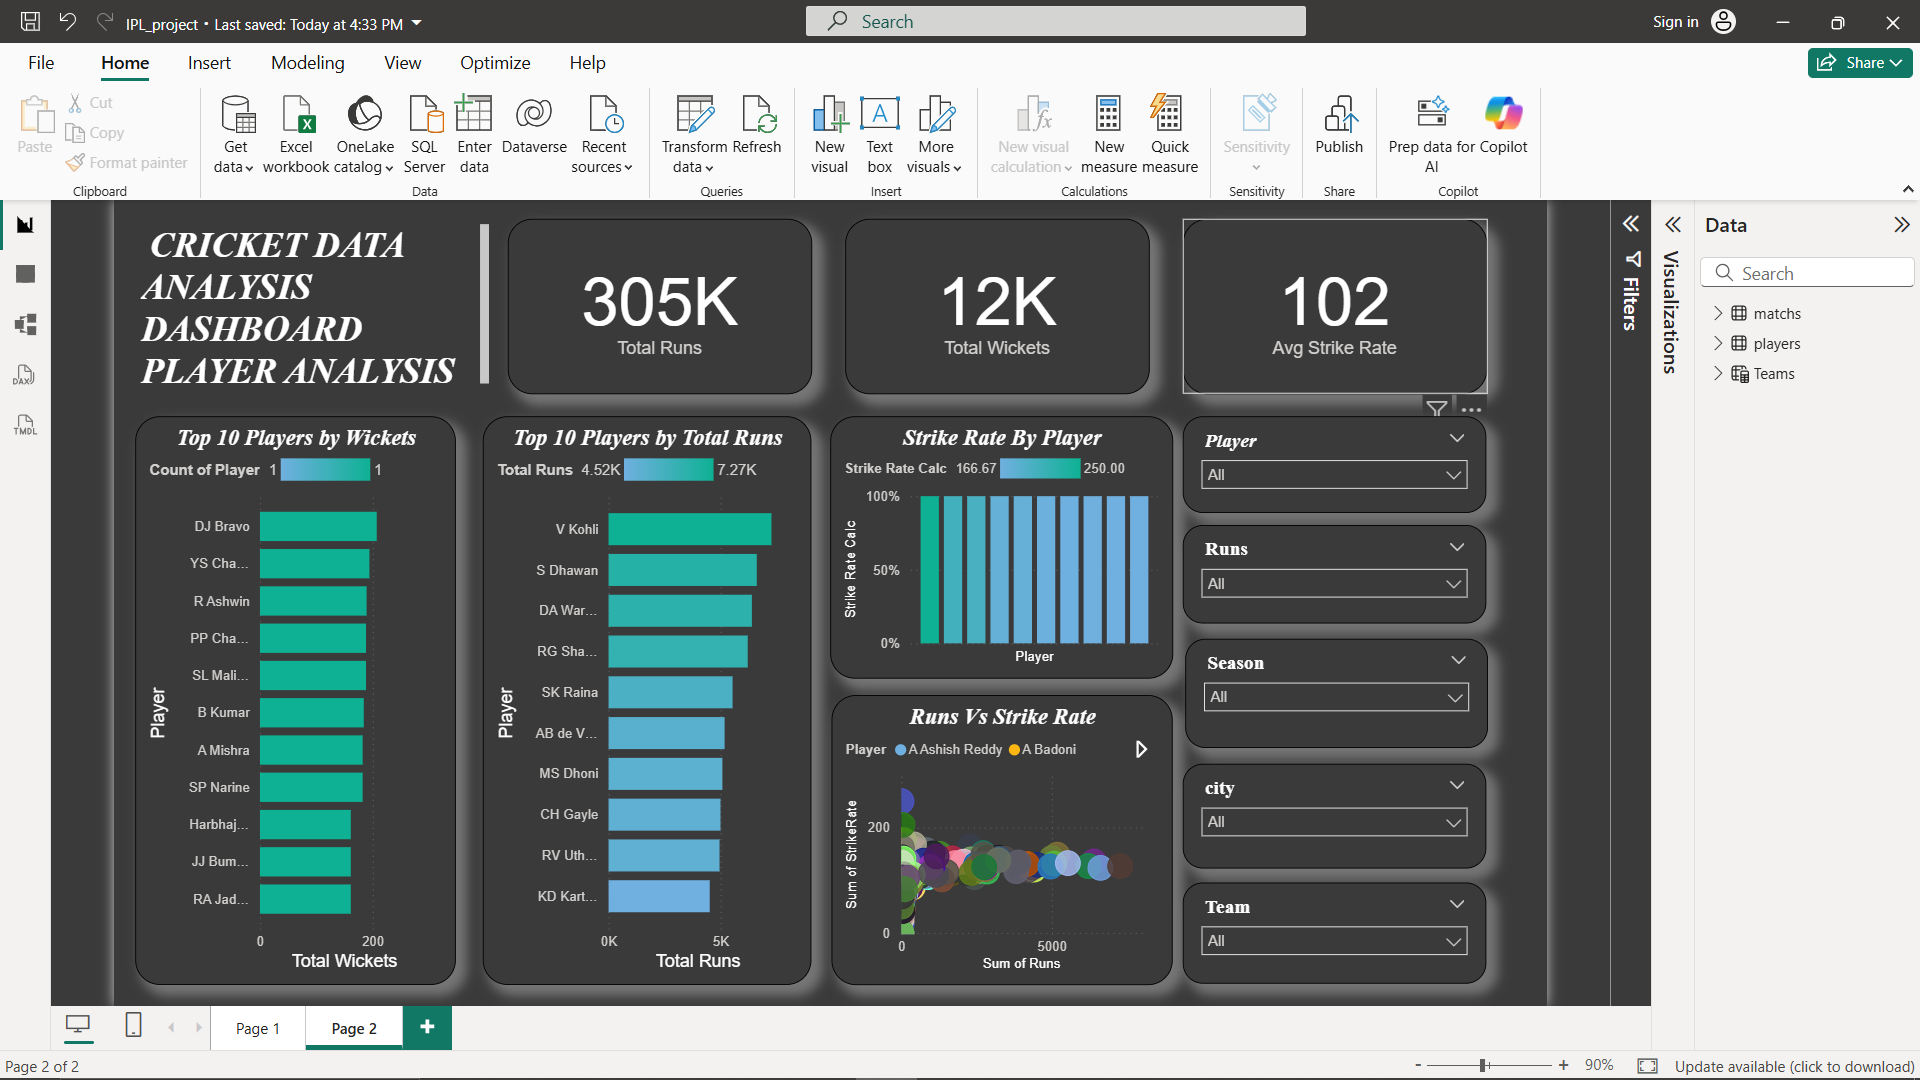

The page's visual inventory and layout, read from the dashboard file:
{"tool":"powerbi","page":{"name":"Page 2","canvas":[1280,720],"ordinal":1},"visuals":[{"type":"textbox","box":[19.2,16.5,321.1,156.4],"z":0},{"type":"card","fields":{"Values":["players.Total Runs"]},"box":[351.3,16.5,271.7,156.4],"z":1000},{"type":"card","fields":{"Values":["players.Total Wickets"]},"box":[653.2,16.5,271.7,156.4],"z":2000},{"type":"card","fields":{"Values":["players.Avg Strike Rate"]},"box":[955.1,16.5,271.7,156.4],"z":3000},{"type":"clusteredBarChart","title":"Top 10 Players by Total Runs","fields":{"Category":["players.Player"],"Y":["players.Total Runs"]},"box":[329.3,193.5,293.7,507.7],"z":4000},{"type":"clusteredBarChart","title":"Top 10 Players by Wickets","fields":{"Category":["players.Player"],"Y":["players.Total Wickets"]},"box":[19.2,193.5,286.8,507.7],"z":5000},{"type":"hundredPercentStackedColumnChart","title":"Strike Rate By Player","fields":{"Category":["players.Player"],"Y":["players.Strike Rate Calc"]},"box":[639.5,193.5,306,234.6],"z":6000},{"type":"scatterChart","title":"Runs Vs Strike Rate","fields":{"X":["Sum(players.Runs)"],"Y":["Sum(players.StrikeRate)"],"Series":["players.Player"]},"box":[640.8,441.9,304.6,259.3],"z":7000},{"type":"slicer","fields":{"Values":["players.Player"]},"box":[954.6,193.3,271.4,86.5],"z":8000},{"type":"slicer","fields":{"Values":["players.Runs"]},"box":[954.6,290.6,271.4,87.7],"z":9000},{"type":"slicer","fields":{"Values":["matchs.Season"]},"box":[956.4,392.5,270.3,97.4],"z":10000},{"type":"slicer","fields":{"Values":["matchs.city"]},"box":[954.6,503.1,271.4,93.7],"z":11000},{"type":"slicer","fields":{"Values":["Teams.Team"]},"box":[954.6,610,271.4,90.1],"z":12000}]}

Visuals, with their boxes on the page's 1280x720 design canvas (x1, y1, x2, y2). These are canvas units, not pixel positions in the 1920x1080 screenshot, which may show the page scaled, cropped or inside an application window:
textbox: Rect(19, 16, 340, 173)
card - players.Total Runs: Rect(351, 16, 623, 173)
card - players.Total Wickets: Rect(653, 16, 925, 173)
card - players.Avg Strike Rate: Rect(955, 16, 1227, 173)
"Top 10 Players by Total Runs" clusteredBarChart: Rect(329, 194, 623, 701)
"Top 10 Players by Wickets" clusteredBarChart: Rect(19, 194, 306, 701)
"Strike Rate By Player" hundredPercentStackedColumnChart: Rect(640, 194, 946, 428)
"Runs Vs Strike Rate" scatterChart: Rect(641, 442, 945, 701)
slicer - players.Player: Rect(955, 193, 1226, 280)
slicer - players.Runs: Rect(955, 291, 1226, 378)
slicer - matchs.Season: Rect(956, 392, 1227, 490)
slicer - matchs.city: Rect(955, 503, 1226, 597)
slicer - Teams.Team: Rect(955, 610, 1226, 700)
